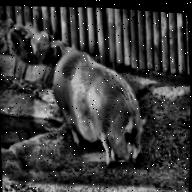boar: (48, 43, 150, 173)
